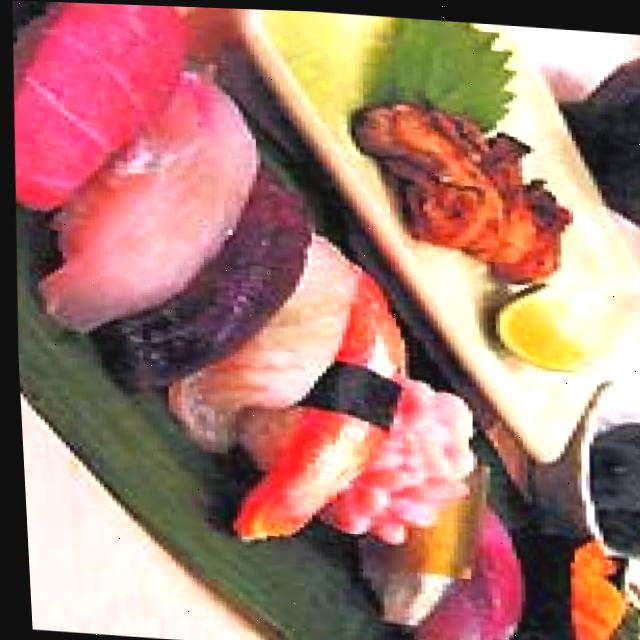寿司卷物: (0, 0, 578, 640)
